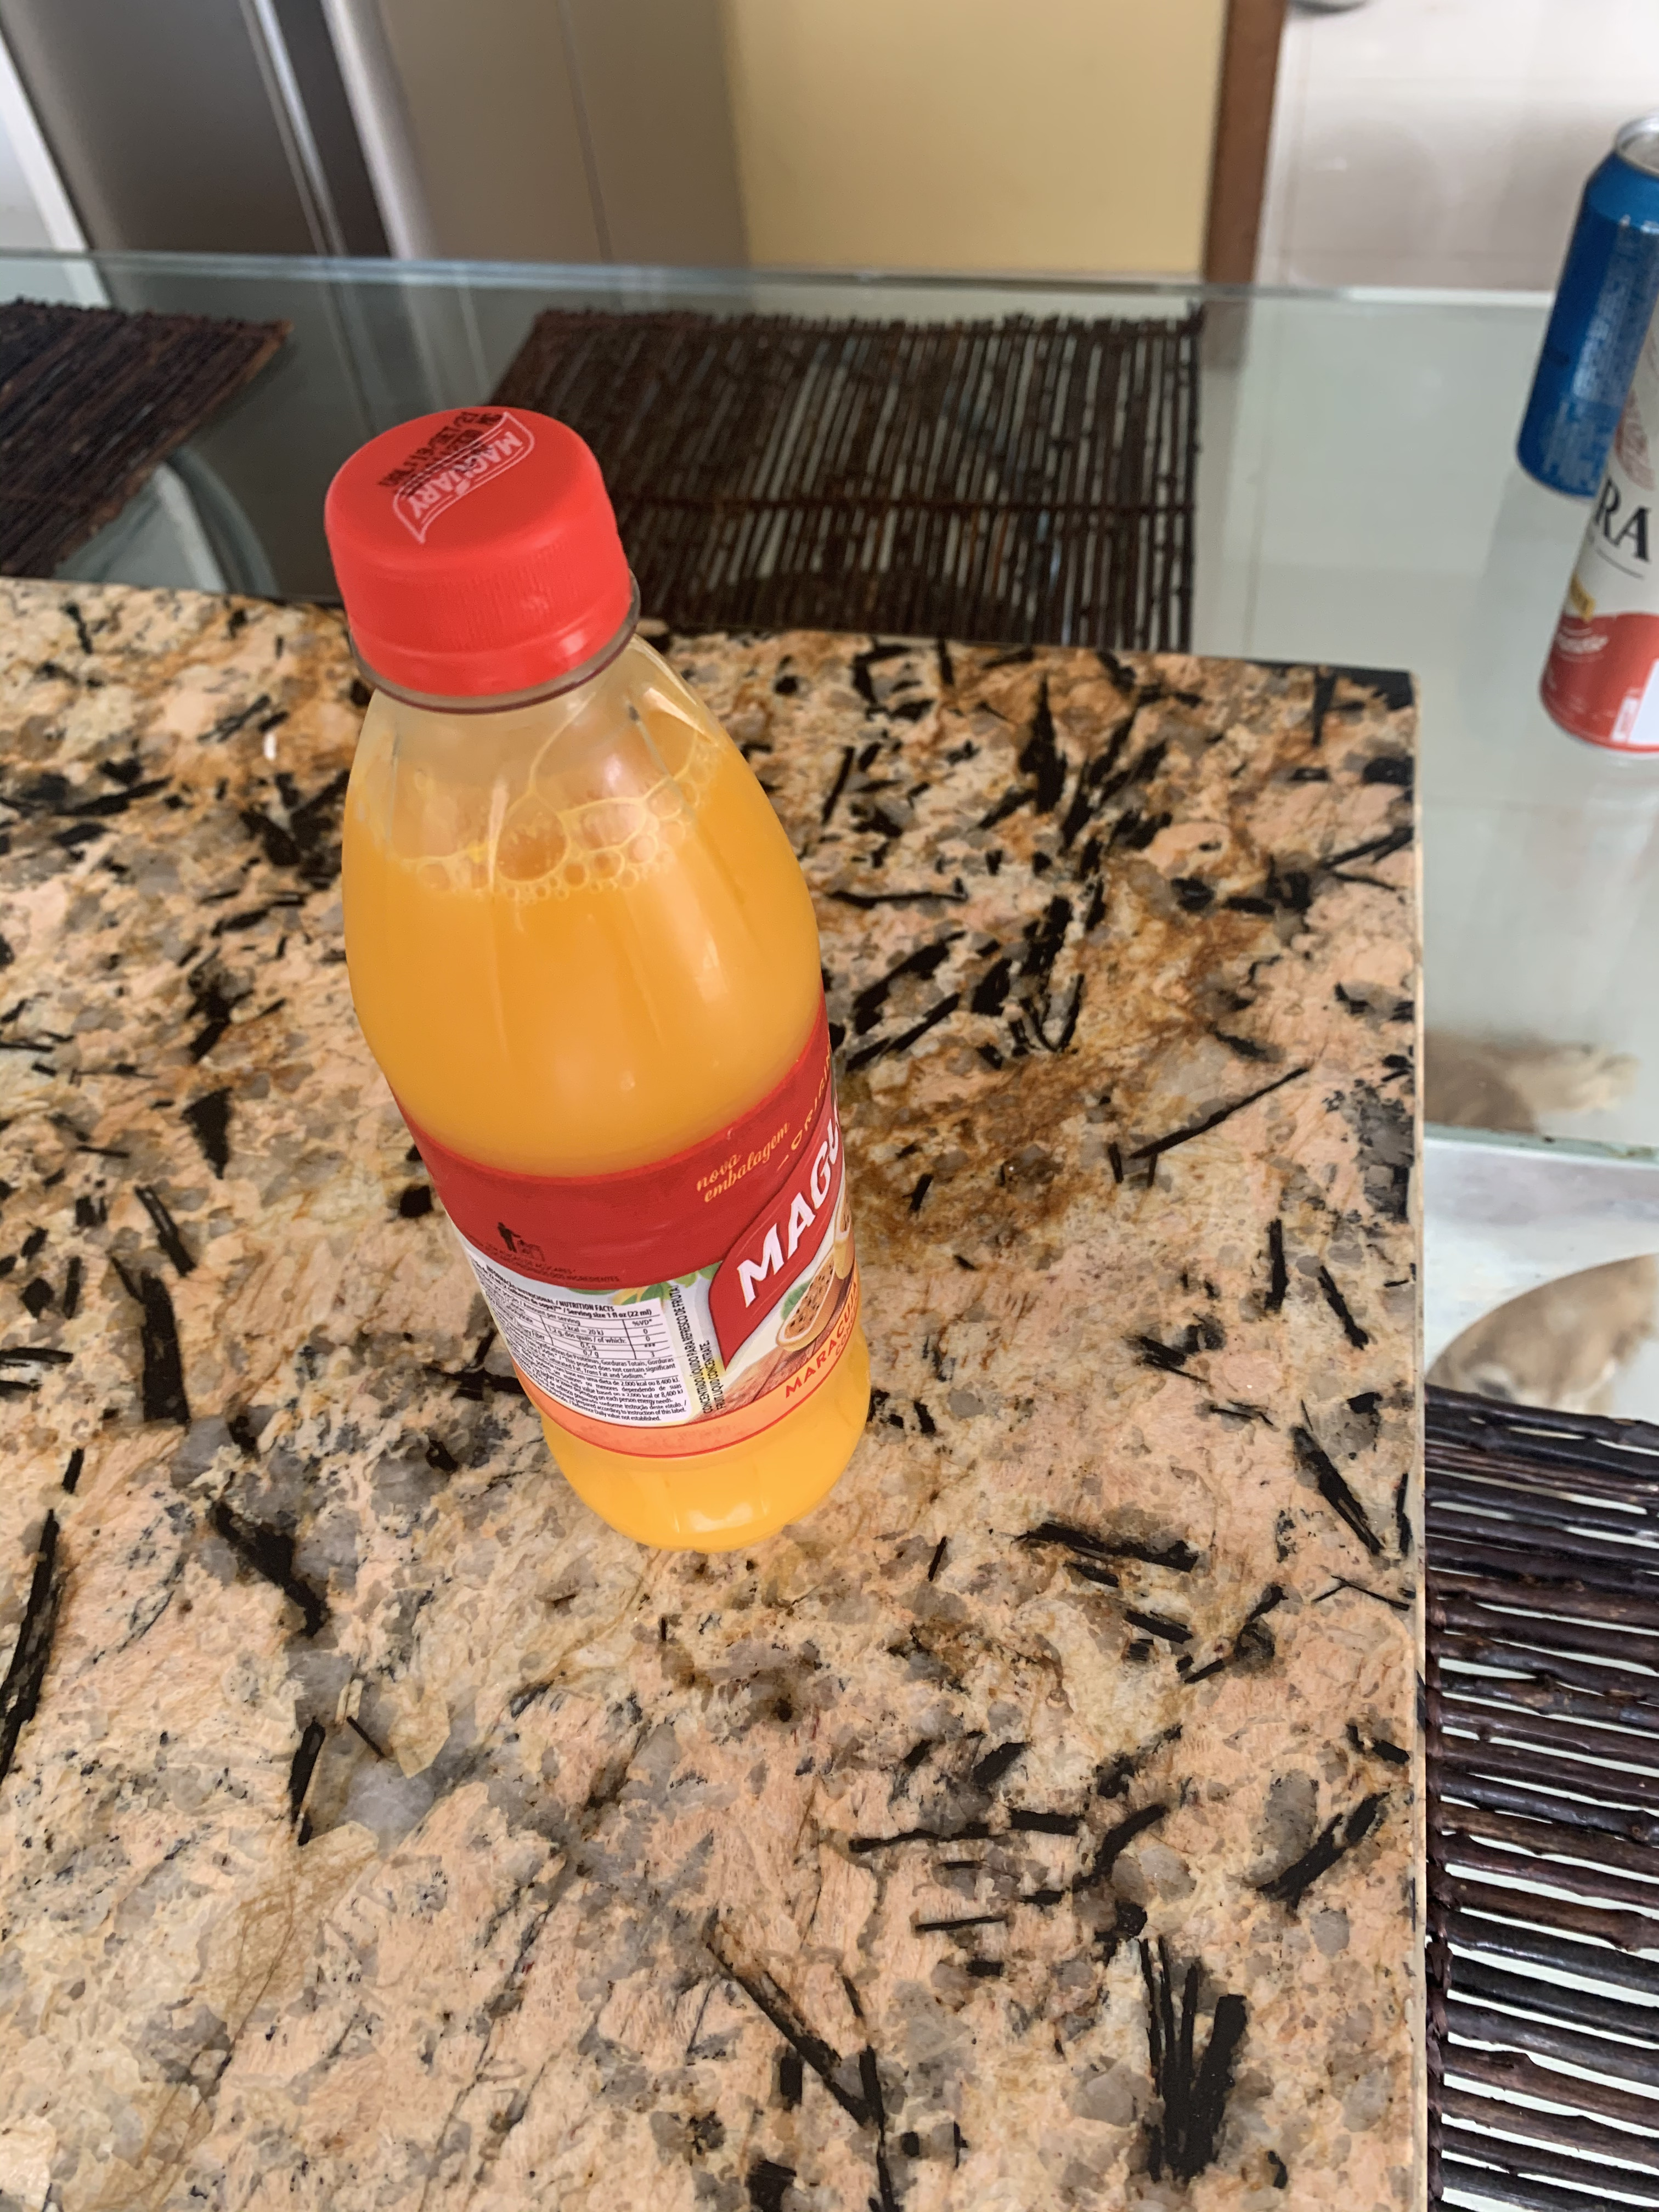maguary: (261, 415, 951, 1608)
petra: (1600, 456, 1659, 840)
tonica: (1492, 103, 1647, 397)
